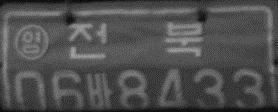0: (13, 69, 47, 112)
3: (232, 67, 266, 111), (193, 67, 227, 110)
4: (156, 69, 187, 111)
6: (51, 68, 84, 111)
8: (116, 68, 150, 111)
바: (85, 71, 112, 110)
영: (12, 23, 49, 60)
전북_D: (67, 21, 205, 60)
